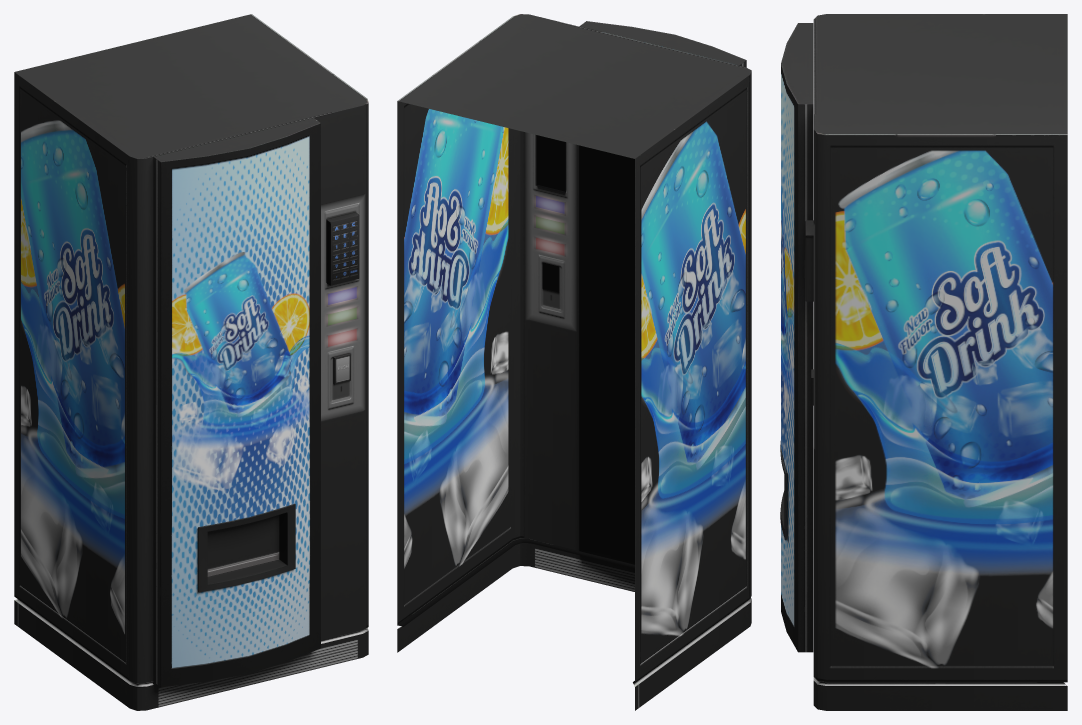
File: VendingMachine_PM_binary.fbx
3 renders of one model, left to right at view 1: azimuth 30°, elevation 25°; view 2: azimuth 150°, elevation 25°; view 3: azimuth 270°, elevation 25°, orthographic. The views are drawn at different scales.
Visible parts, largest first — view 1: Beverage_vending_machine; view 2: Beverage_vending_machine; view 3: Beverage_vending_machine.
Boxes of the visible parts, x1,y1,x2,y2 form: Beverage_vending_machine: (14, 14, 368, 710); Beverage_vending_machine: (397, 14, 751, 710); Beverage_vending_machine: (780, 14, 1067, 710).
Size of the model in its own units: 37.01 by 82.11 by 37.15.
Materials: 1 (1 with a texture image).
